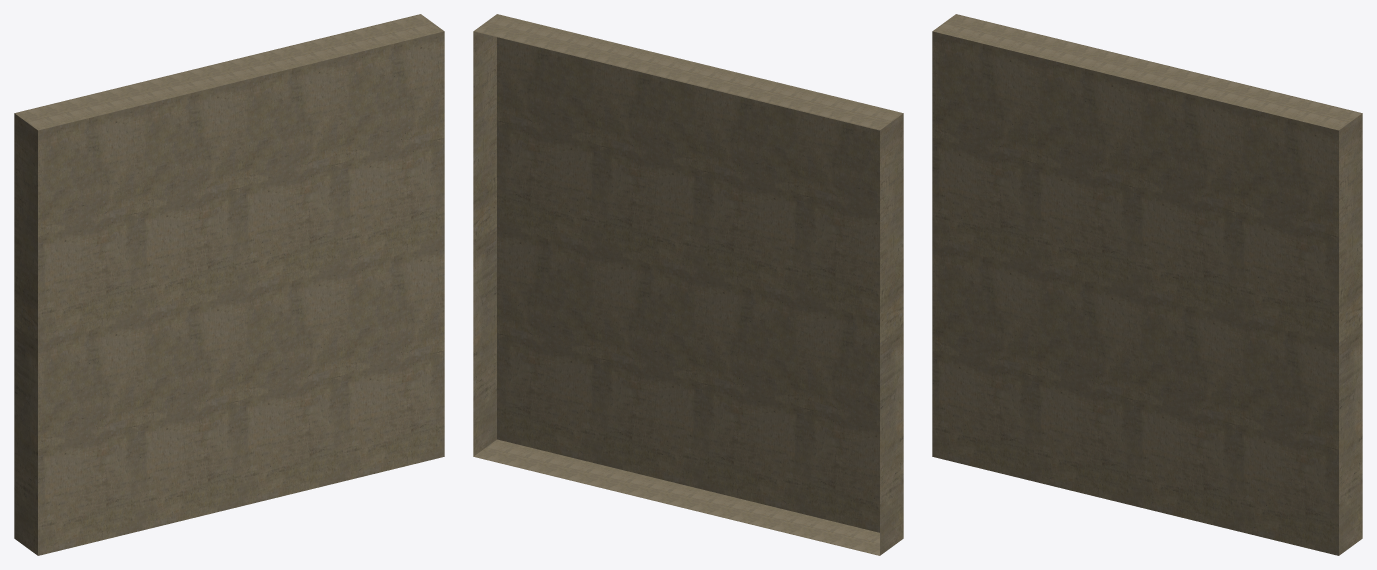
File: Wall_01.FBX
3 renders of one model, left to right at view 1: azimuth 30°, elevation 25°; view 2: azimuth 150°, elevation 25°; view 3: azimuth 330°, elevation 25°, orthographic.
Parts seen in each view (by area): view 1: Wall_01; view 2: Wall_01; view 3: Wall_01.
Part boxes in pixels (x1=…): Wall_01: x1=14, y1=14, x2=444, y2=555; Wall_01: x1=473, y1=14, x2=903, y2=555; Wall_01: x1=932, y1=14, x2=1362, y2=555.
Size of the model in its own units: 10 by 10 by 1.01.
